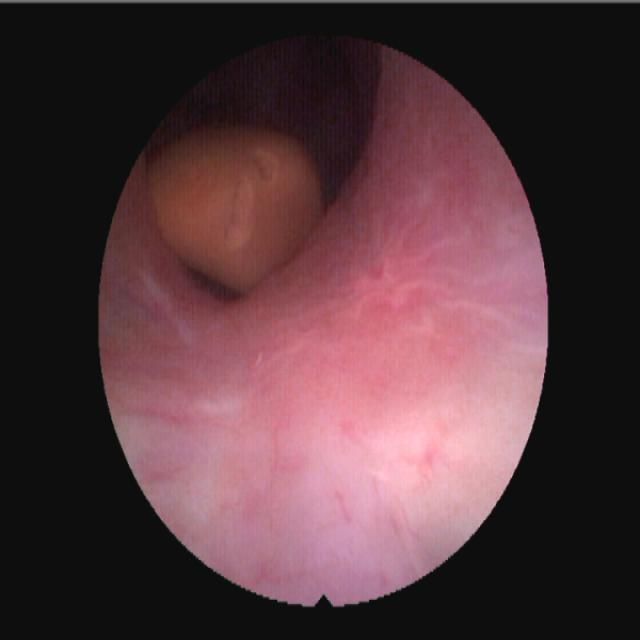stone: (150, 121, 323, 294)
tissue: (107, 48, 539, 599)
